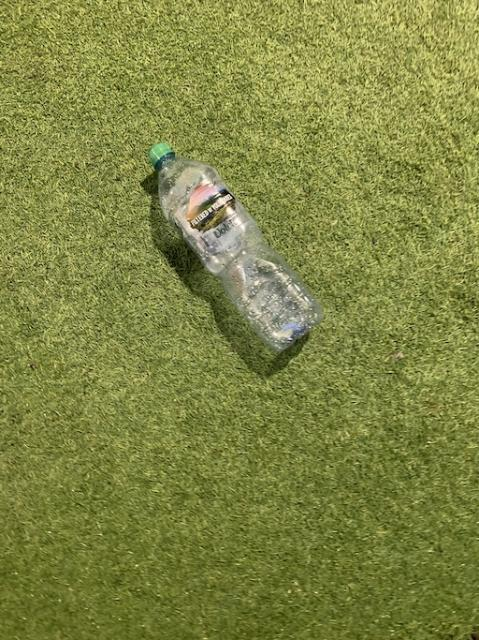plastic: (148, 141, 321, 350)
